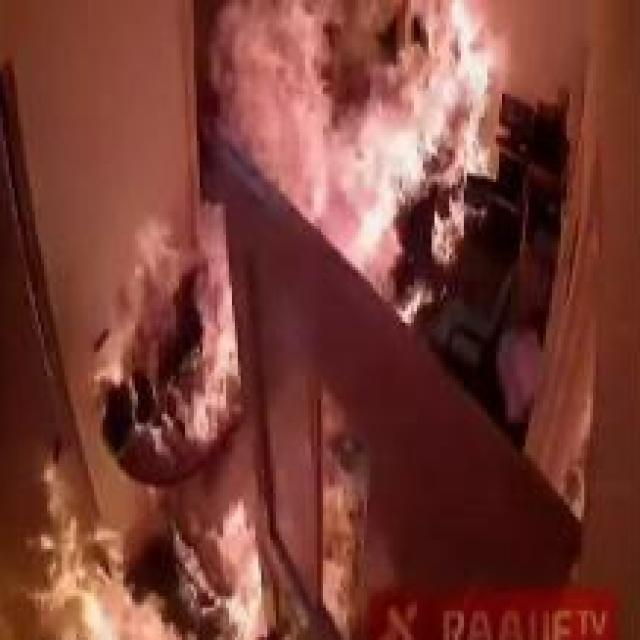smoke: (217, 3, 517, 323), (27, 467, 264, 640), (86, 192, 248, 445)
